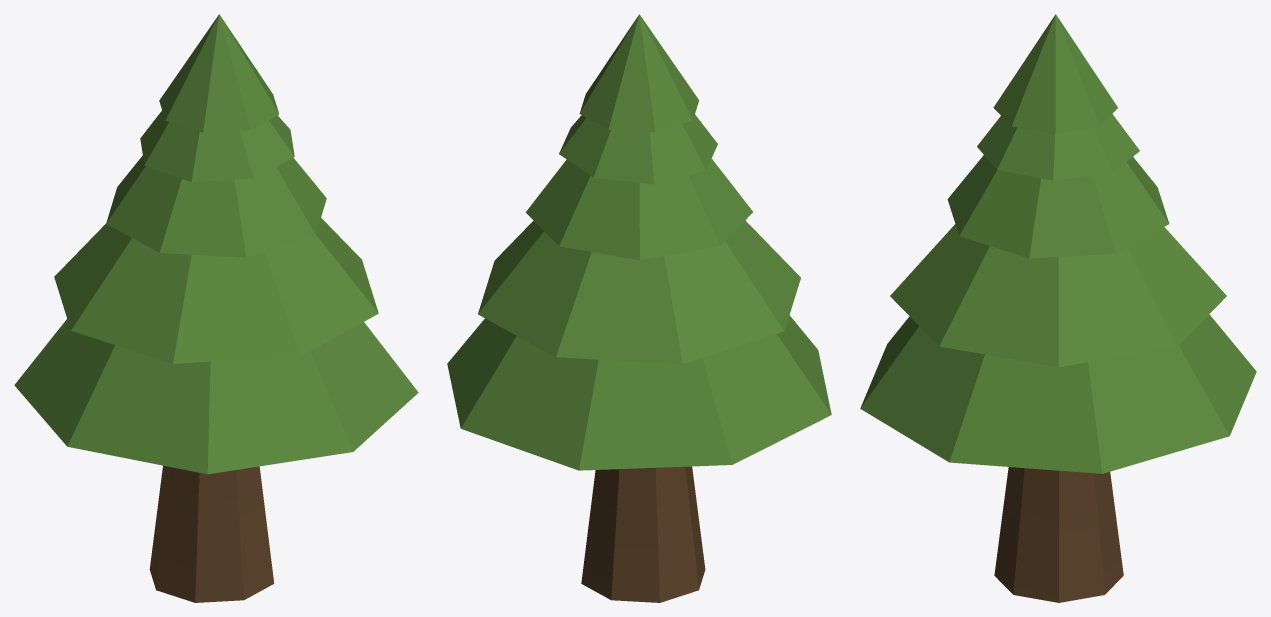
The model's file is Tree4.fbx.
3 renders of one model, left to right at view 1: azimuth 30°, elevation 25°; view 2: azimuth 150°, elevation 25°; view 3: azimuth 270°, elevation 25°, orthographic.
Parts seen in each view (by area): view 1: Tree; view 2: Tree; view 3: Tree.
Boxes of the visible parts, <box> form: Tree: <box>14,14,418,602</box>; Tree: <box>447,14,831,602</box>; Tree: <box>860,14,1256,602</box>.
Size of the model in its own units: 269 by 422 by 269.
